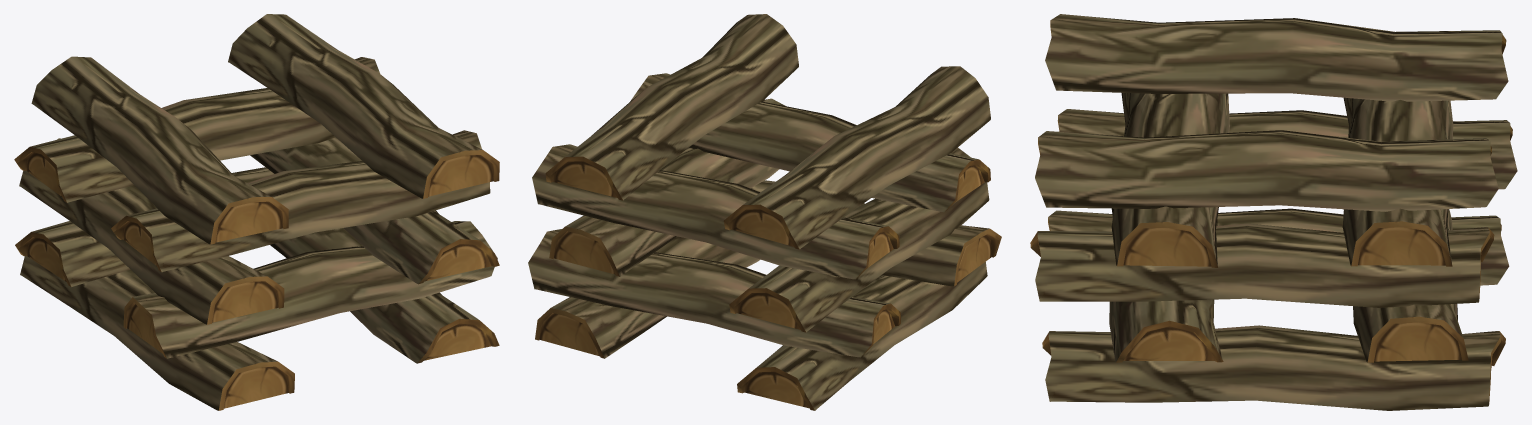
The model's file is Campfire04.fbx.
3 views of the same model, side by side, from view 1: azimuth 30°, elevation 25°; view 2: azimuth 150°, elevation 25°; view 3: azimuth 270°, elevation 25° (orthographic). The views are drawn at different scales.
Parts seen in each view (by area): view 1: Campfire04_LOD0; view 2: Campfire04_LOD0; view 3: Campfire04_LOD0.
Part boxes in pixels (x1,y1,x2,y2): Campfire04_LOD0: [14, 14, 499, 410]; Campfire04_LOD0: [528, 14, 1001, 410]; Campfire04_LOD0: [1030, 14, 1517, 410].
Size of what is drawn, in the model's own units: 44.5 by 25.83 by 46.13.
